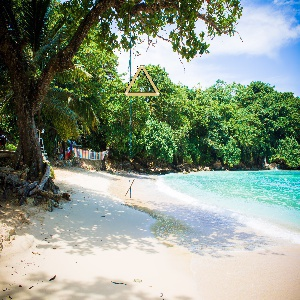triangle: (123, 63, 162, 99)
